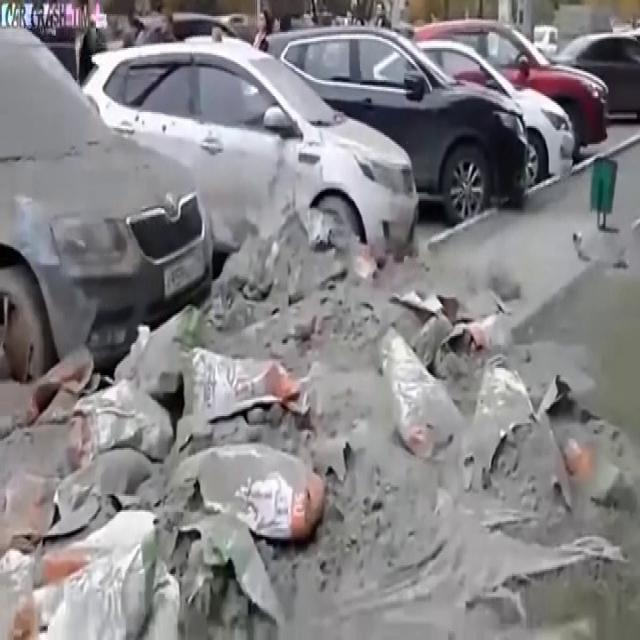accident: (0, 150, 380, 368)
